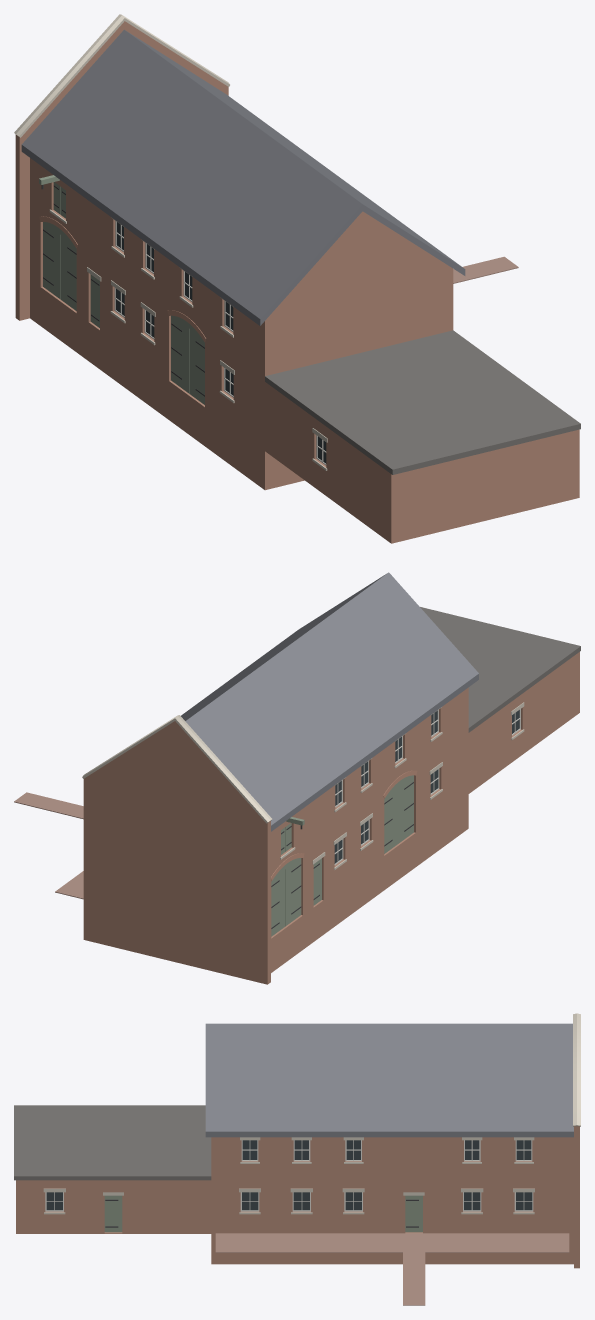
File: edson_keith_house_1906_prairie_coach_house__as_standing_1904.glb
3 renders of one model, top to bottom at view 1: azimuth 30°, elevation 25°; view 2: azimuth 150°, elevation 25°; view 3: azimuth 270°, elevation 25°, orthographic. The views are drawn at different scales.
Parts seen in each view (by area): view 1: edson_keith_house_1906_prairie_coach_house__as_standing_1904; view 2: edson_keith_house_1906_prairie_coach_house__as_standing_1904; view 3: edson_keith_house_1906_prairie_coach_house__as_standing_1904.
Boxes of the visible parts, x1=… form: edson_keith_house_1906_prairie_coach_house__as_standing_1904: x1=14, y1=14, x2=580, y2=543; edson_keith_house_1906_prairie_coach_house__as_standing_1904: x1=14, y1=572, x2=580, y2=984; edson_keith_house_1906_prairie_coach_house__as_standing_1904: x1=14, y1=1013, x2=580, y2=1305.
Size of the model in its own units: 19.11 by 12.84 by 30.63.
